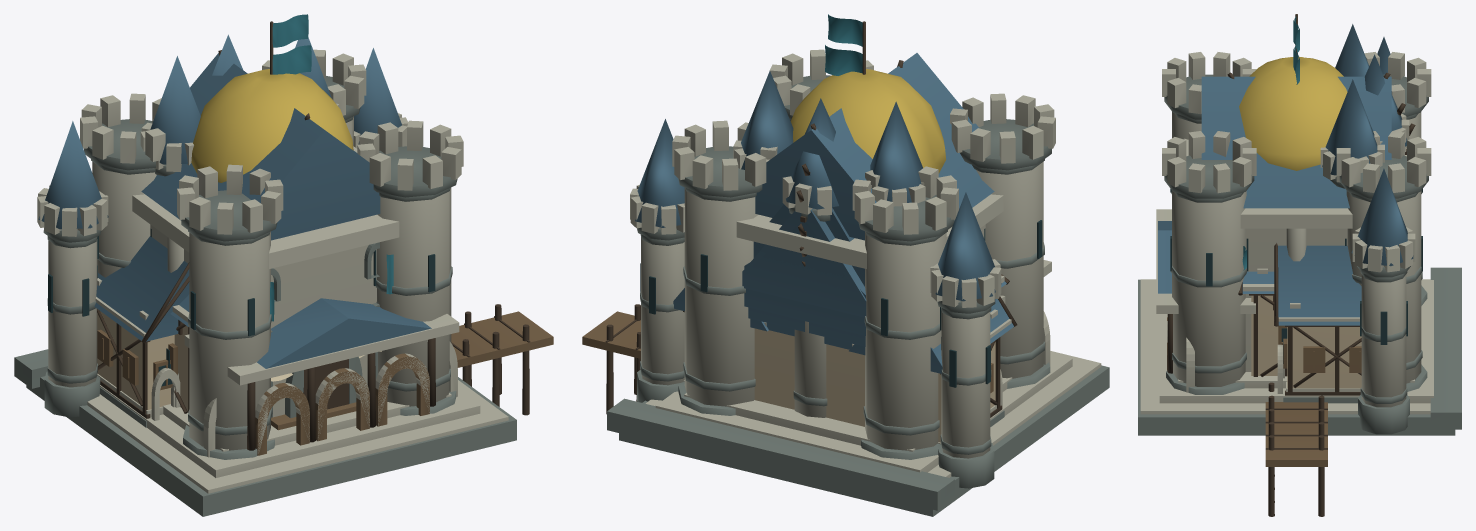
Rendered from frontier-low.glb.
3 views of the same model, side by side, from view 1: azimuth 30°, elevation 25°; view 2: azimuth 150°, elevation 25°; view 3: azimuth 270°, elevation 25° (orthographic). The views are drawn at different scales.
Parts seen in each view (by area): view 1: part_167, part_191, part_169, part_190, part_166, part_193, part_26, part_5, part_8, part_27, part_467, part_235 (+15 smaller); view 2: part_167, part_24, part_26, part_191, part_166, part_183, part_169, part_193, part_190, part_181, part_258, part_645 (+15 smaller); view 3: part_167, part_191, part_193, part_169, part_24, part_26, part_166, part_467, part_190, part_196, part_183, part_3 (+19 smaller).
Boxes of the visible parts, left/top/right/bottom form: part_167: left=80, top=49, right=463, bottom=450; part_191: left=87, top=146, right=508, bottom=493; part_169: left=141, top=53, right=380, bottom=240; part_190: left=26, top=301, right=516, bottom=516; part_166: left=84, top=75, right=457, bottom=459; part_193: left=191, top=69, right=353, bottom=182; part_26: left=37, top=113, right=408, bottom=387; part_5: left=146, top=34, right=431, bottom=368; part_8: left=102, top=338, right=429, bottom=455; part_27: left=38, top=48, right=401, bottom=229; part_467: left=94, top=236, right=189, bottom=340; part_235: left=95, top=278, right=459, bottom=420; part_167: left=672, top=49, right=1055, bottom=450; part_24: left=607, top=227, right=995, bottom=510; part_26: left=630, top=184, right=1001, bottom=458; part_191: left=645, top=194, right=1101, bottom=477; part_166: left=678, top=75, right=1051, bottom=459; part_183: left=741, top=71, right=922, bottom=317; part_169: left=755, top=53, right=994, bottom=240; part_193: left=790, top=69, right=946, bottom=173; part_190: left=619, top=365, right=1109, bottom=516; part_181: left=754, top=328, right=864, bottom=426; part_258: left=635, top=119, right=992, bottom=301; part_645: left=742, top=208, right=866, bottom=317; part_167: left=1162, top=52, right=1431, bottom=386; part_191: left=1140, top=138, right=1433, bottom=414; part_193: left=1239, top=56, right=1347, bottom=170; part_169: left=1201, top=76, right=1391, bottom=208; part_24: left=1357, top=266, right=1461, bottom=434; part_26: left=1352, top=227, right=1415, bottom=407; part_166: left=1164, top=74, right=1428, bottom=394; part_467: left=1278, top=245, right=1361, bottom=325; part_190: left=1138, top=279, right=1455, bottom=435; part_196: left=1265, top=402, right=1327, bottom=466; part_183: left=1322, top=24, right=1377, bottom=175; part_3: left=1287, top=327, right=1361, bottom=388.
Size of the model in its own units: 14.82 by 14 by 10.39.
